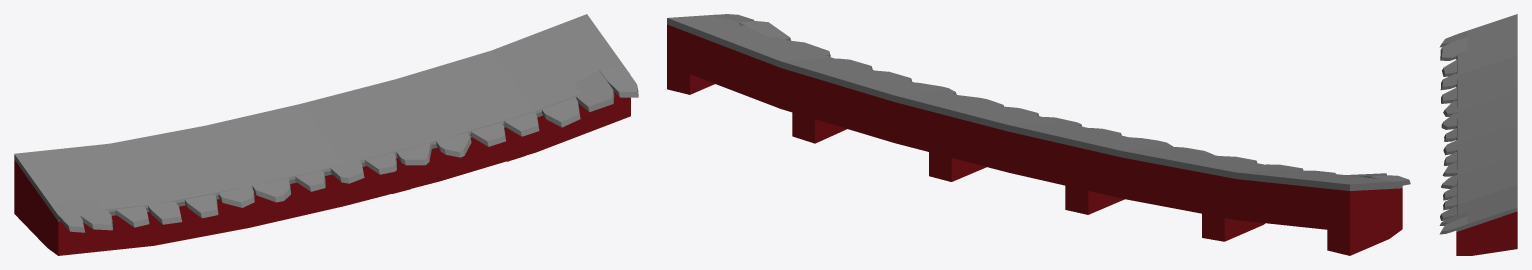
The model's file is SM_MH_01_Slate_Porch_Roof_End_02.fbx.
3 renders of one model, left to right at view 1: azimuth 30°, elevation 25°; view 2: azimuth 150°, elevation 25°; view 3: azimuth 270°, elevation 25°, orthographic. The views are drawn at different scales.
Visible parts, largest first — view 1: SM_MH_01_Slate_Porch_Roof_End_02_LOD0; view 2: SM_MH_01_Slate_Porch_Roof_End_02_LOD0; view 3: SM_MH_01_Slate_Porch_Roof_End_02_LOD0.
Boxes of the visible parts, bbox=[...] form: SM_MH_01_Slate_Porch_Roof_End_02_LOD0: bbox=[14, 14, 638, 255]; SM_MH_01_Slate_Porch_Roof_End_02_LOD0: bbox=[667, 14, 1410, 255]; SM_MH_01_Slate_Porch_Roof_End_02_LOD0: bbox=[1439, 14, 1517, 255].
Size of what is drawn, in the model's own units: 300 by 45 by 51.16.
